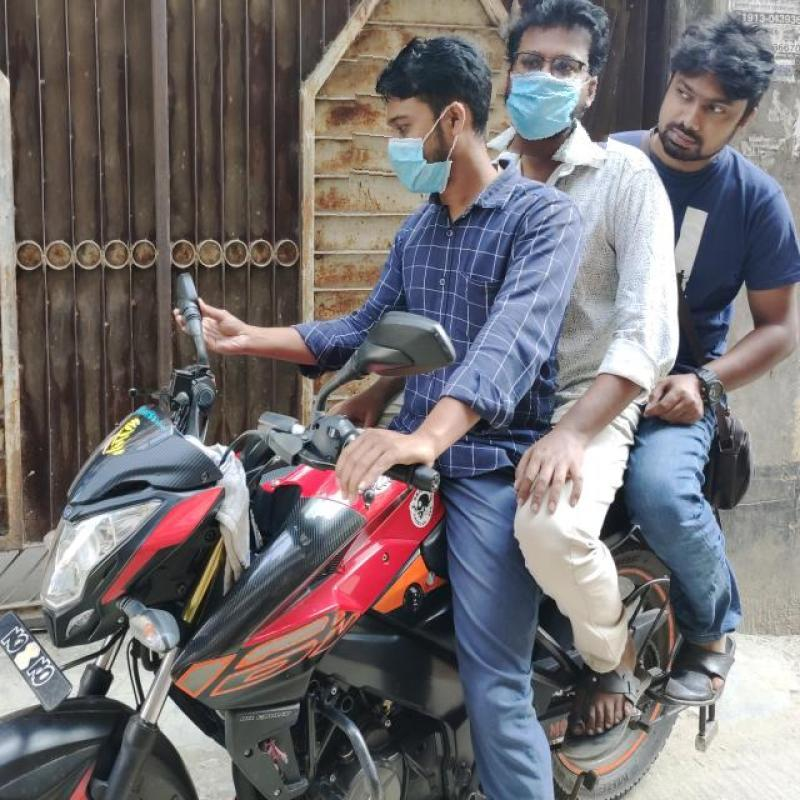nohelmet: (352, 32, 504, 206), (493, 0, 624, 164), (650, 9, 774, 178)
